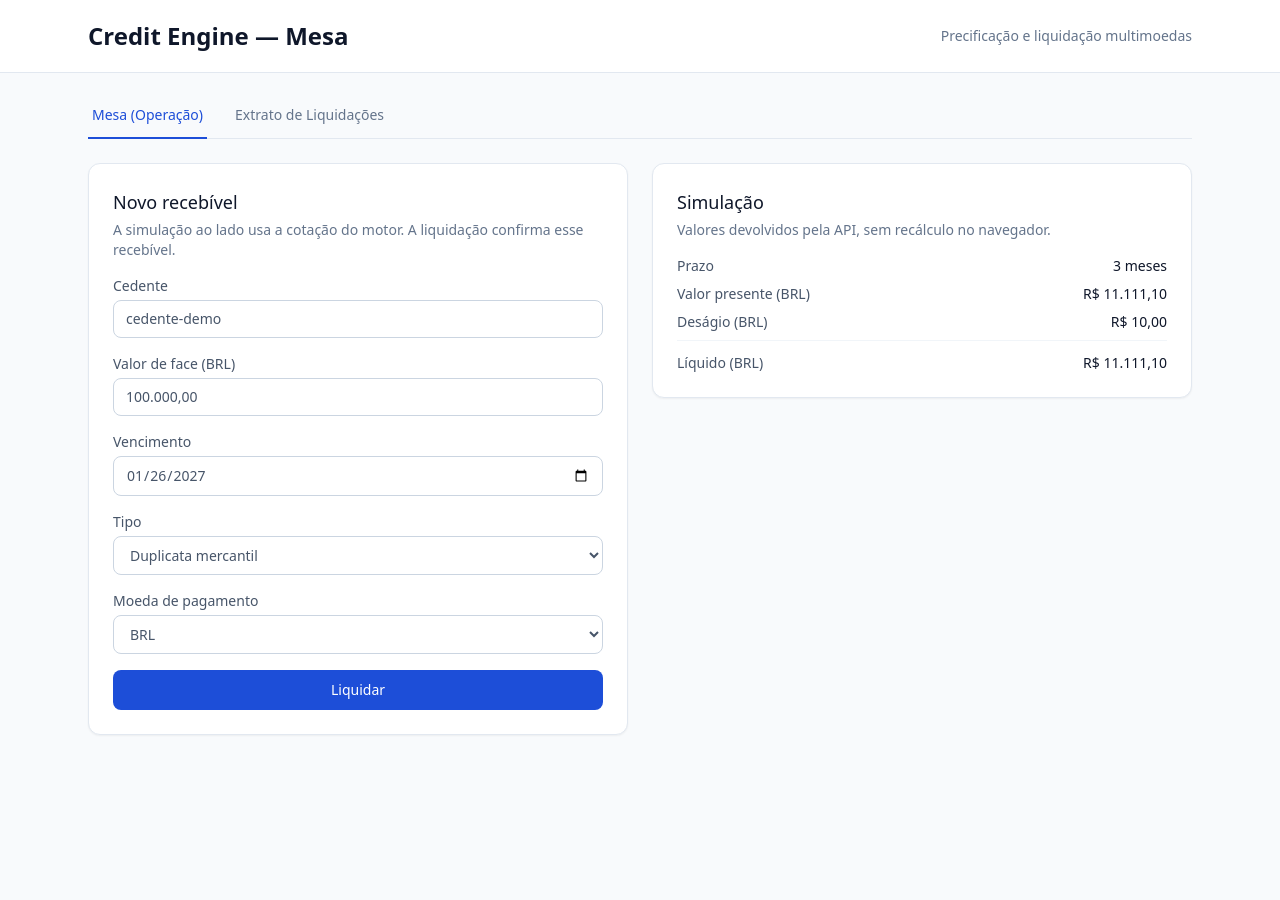
keeps the settlement alert visible after leaving the desk
What coordinates should you click on to do the following:
click the button "Liquidar"
I would click on:
 (358, 690)
Its box is [113,670,603,710].
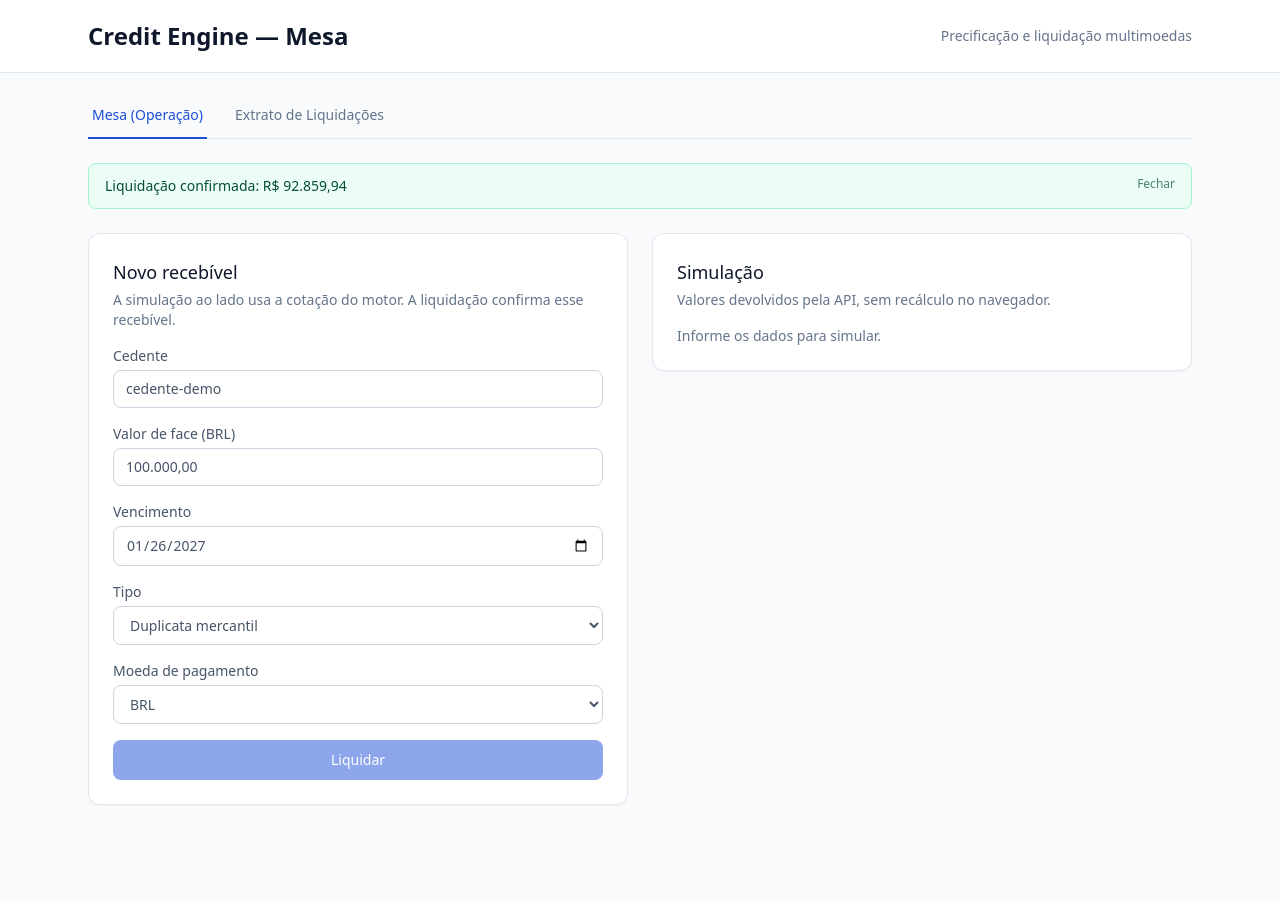
Check: the message shows "Liquidação confirmada: R$ 92.859,94", box [105,176,347,195]
What coordinates should you click on to do the following:
click the tab "Extrato de Liquidações"
I would click on:
 (310, 122)
Its box is [231,105,388,139].
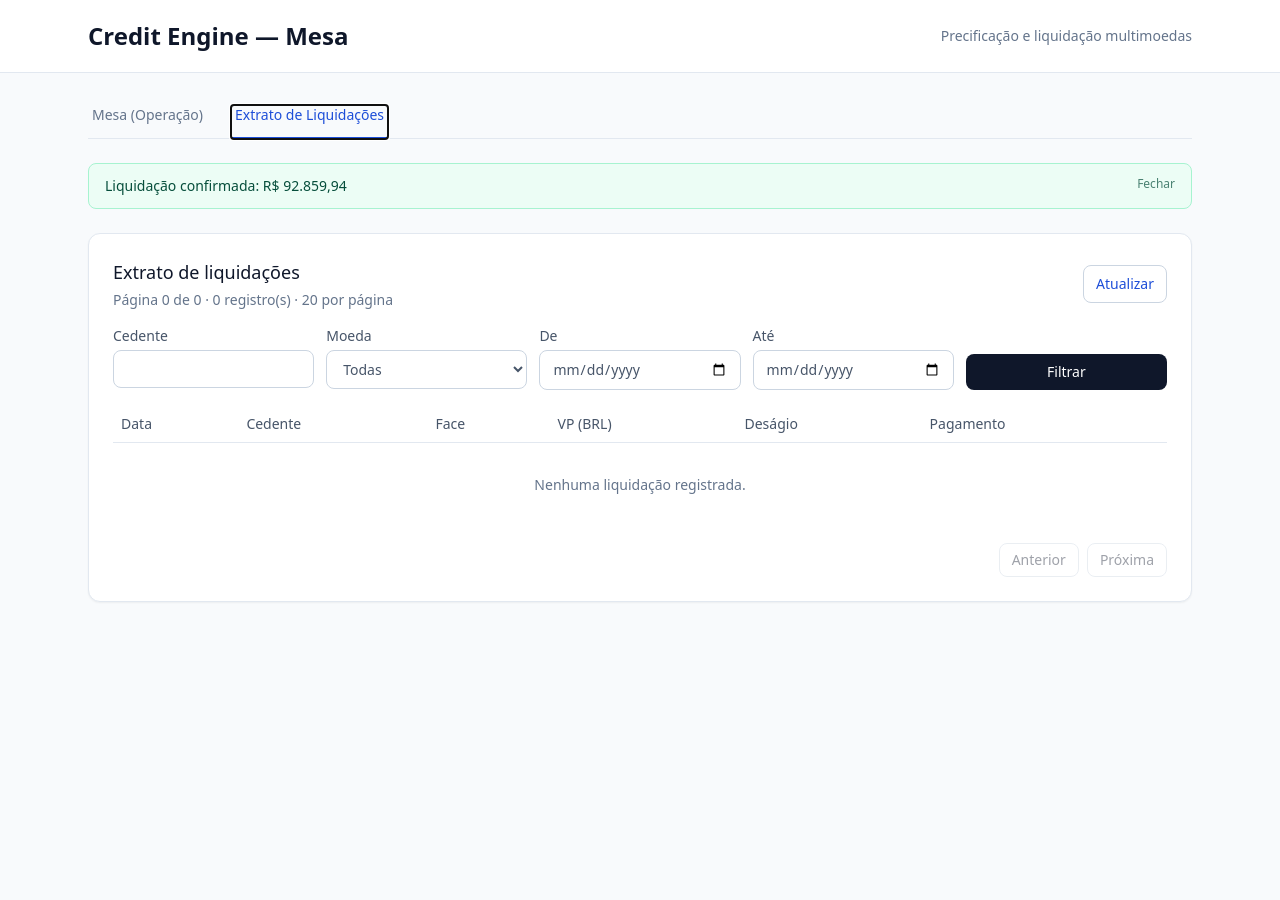
Check: the message shows "Liquidação confirmada: R$ 92.859,94", box [105,176,347,195]
Check: the button "Fechar" is shown, box [1137,176,1175,192]
Check: the heading "Extrato de liquidações" is shown, box [113,260,300,284]
